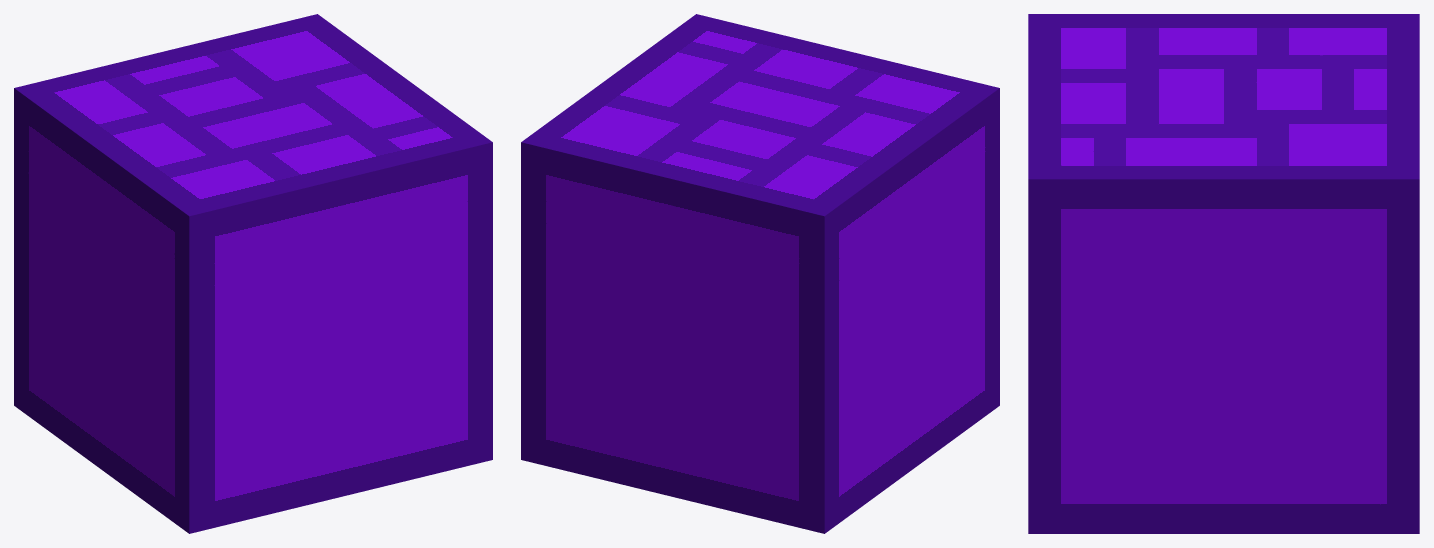
The model's file is block_cracked.fbx.
The picture shows the model from 3 angles, left to right: view 1: azimuth 30°, elevation 25°; view 2: azimuth 150°, elevation 25°; view 3: azimuth 270°, elevation 25°; orthographic projection. The views are drawn at different scales.
Parts seen in each view (by area): view 1: block_cracked_bottom, block_cracked_top; view 2: block_cracked_bottom, block_cracked_top; view 3: block_cracked_bottom, block_cracked_top.
Part boxes in pixels (box(x1,y1,x2,y2)): block_cracked_bottom: box(14, 141, 492, 533); block_cracked_top: box(14, 14, 492, 269); block_cracked_bottom: box(521, 141, 999, 533); block_cracked_top: box(521, 14, 999, 269); block_cracked_bottom: box(1028, 238, 1419, 533); block_cracked_top: box(1028, 14, 1419, 238).
Bounding box in the file's own units: 12 × 12 × 12.
